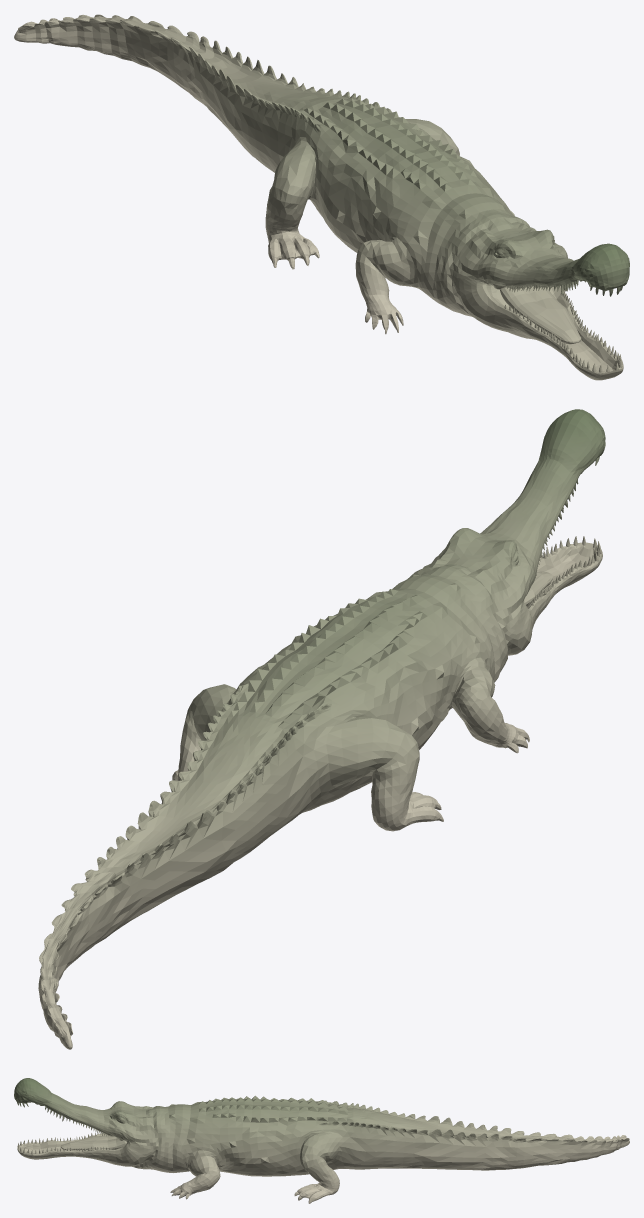
File: sarcosuchus.glb
3 views of the same model, one above another, from view 1: azimuth 30°, elevation 25°; view 2: azimuth 150°, elevation 25°; view 3: azimuth 270°, elevation 25° (orthographic). The views are drawn at different scales.
Visible parts, largest first — view 1: sarcosuchus.obj; view 2: sarcosuchus.obj; view 3: sarcosuchus.obj.
Boxes of the visible parts, x1,y1,x2,y2 form: sarcosuchus.obj: (14,14,629,380); sarcosuchus.obj: (38,409,605,1049); sarcosuchus.obj: (14,1078,629,1203).
Size of the model in its own units: 3.26 by 2.41 by 14.
